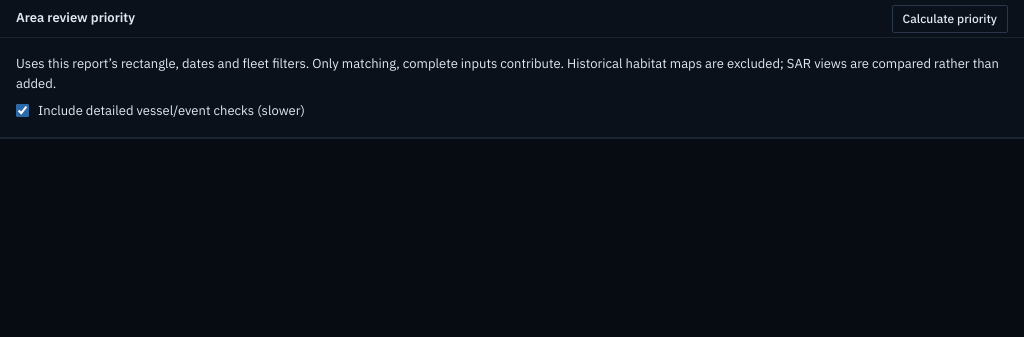
renders prepared historical marine references without implying current damage
Click the button "Calculate priority". click: (950, 18)
box: [892,4,1008,32]
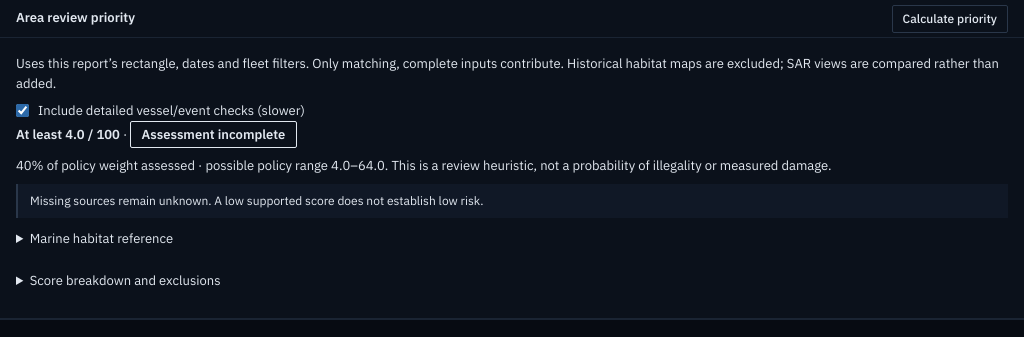
Expected: the text "At least 4.0 / 100" is shown, [16,126,120,143]
